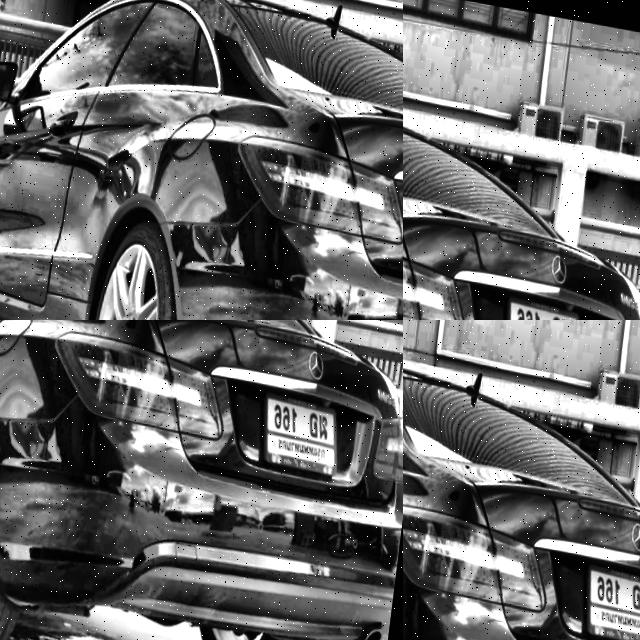license-plate: (580, 554, 640, 640), (606, 18, 640, 104)
